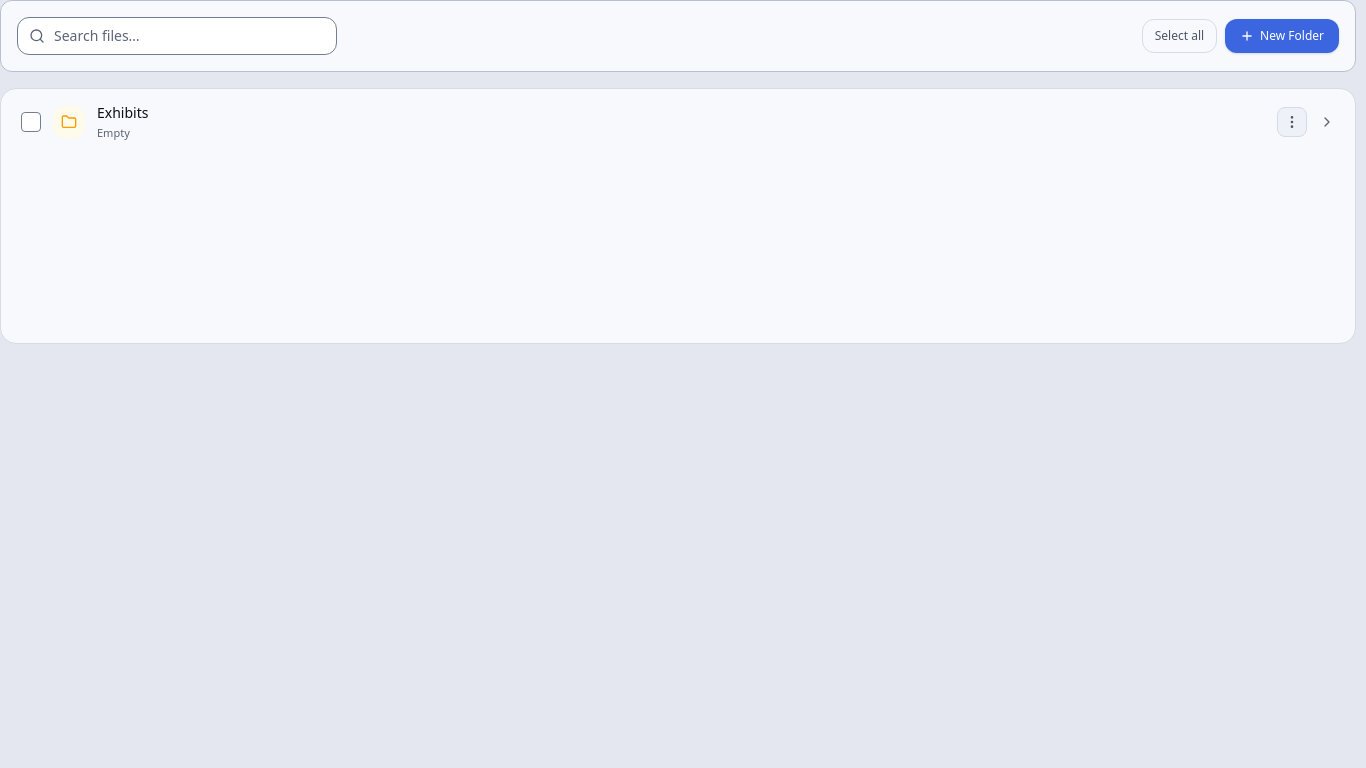
Test: a search hit › found at the root counts the root as its current location
Check: the text "Exhibits" is shown, box [97, 103, 148, 123]
Type "hit" into the field with placeholder "Search files…" at (177, 36), box [17, 17, 337, 55]
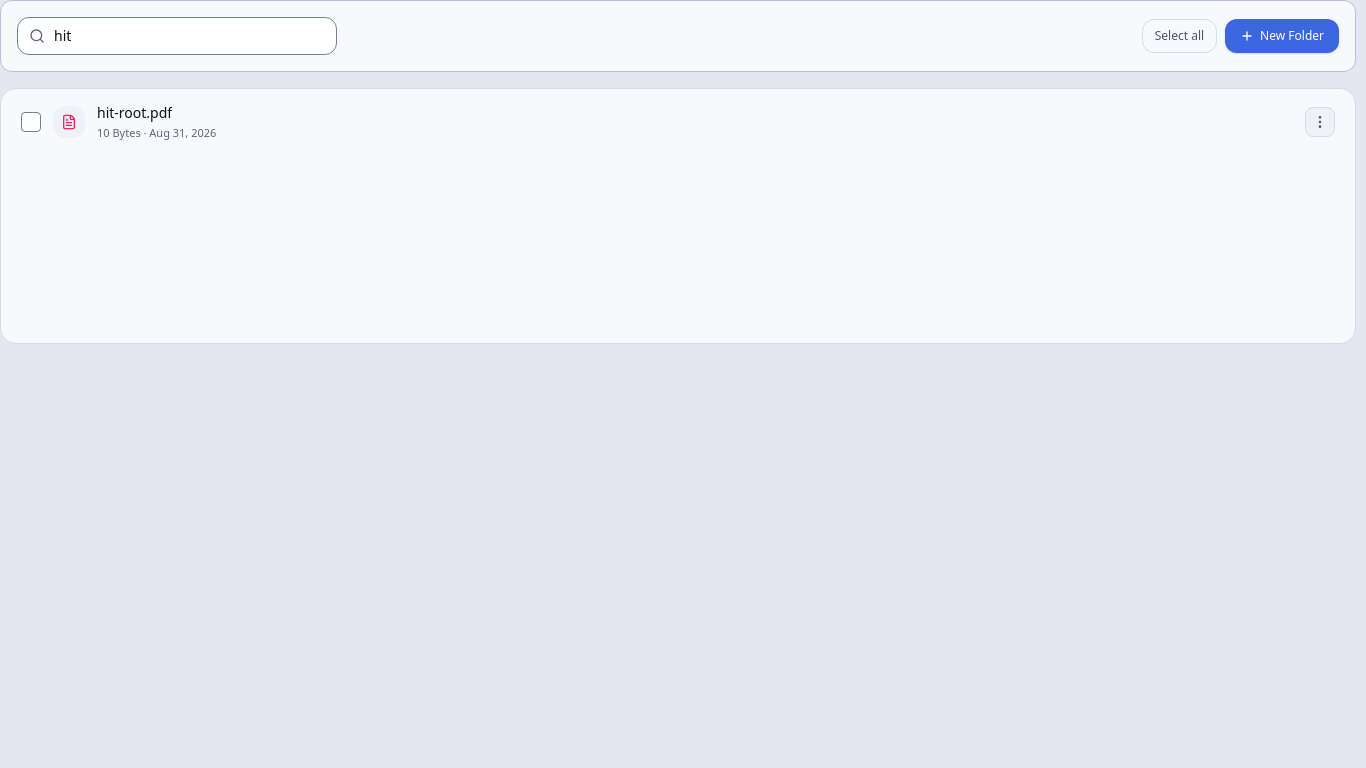
Check: the text "hit-root.pdf" is shown, box [97, 103, 172, 123]
Click the button named "More actions" at (1320, 122), box [1305, 107, 1335, 137]
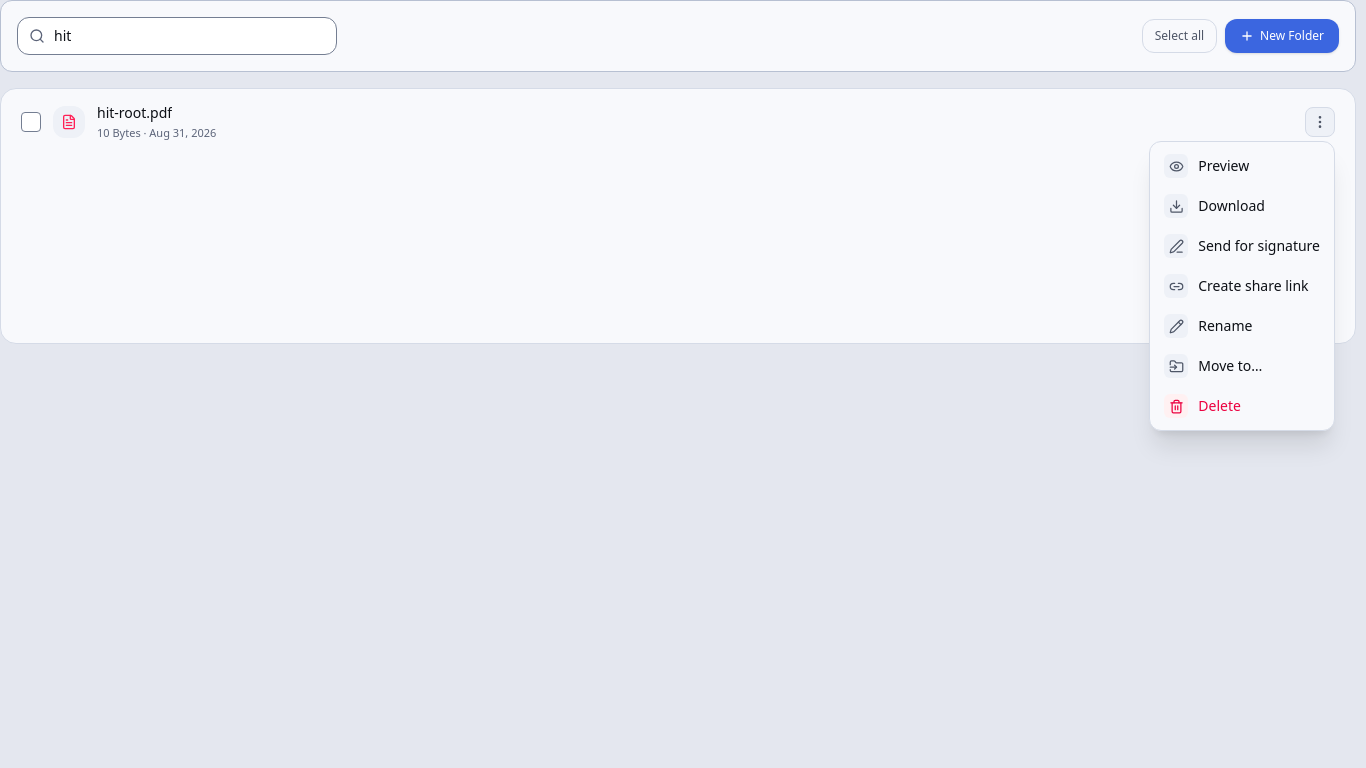
Click the button "Move to…" at (1242, 366), box [1154, 346, 1330, 386]
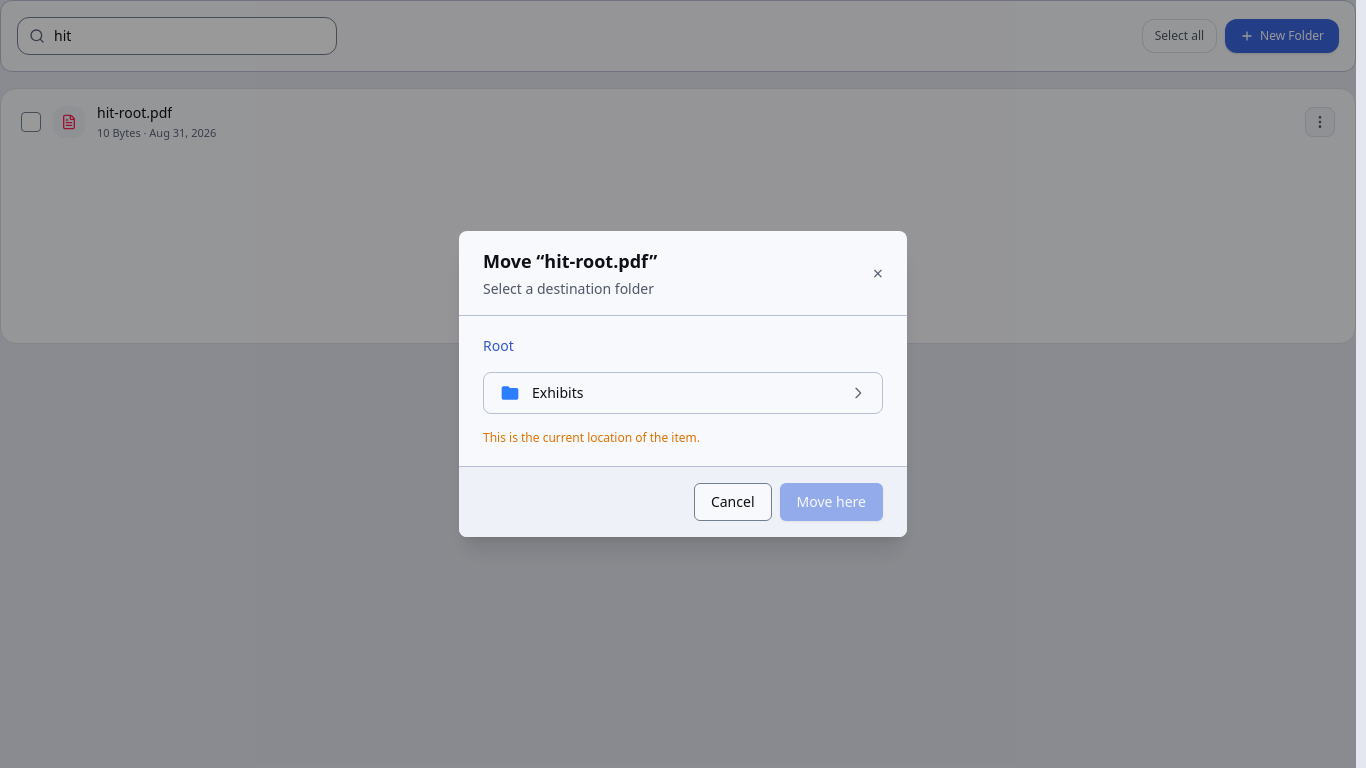
Check: the button "Exhibits" is shown, box [484, 373, 882, 413]
Check: the button "Move here" is disabled, box [780, 483, 883, 521]
